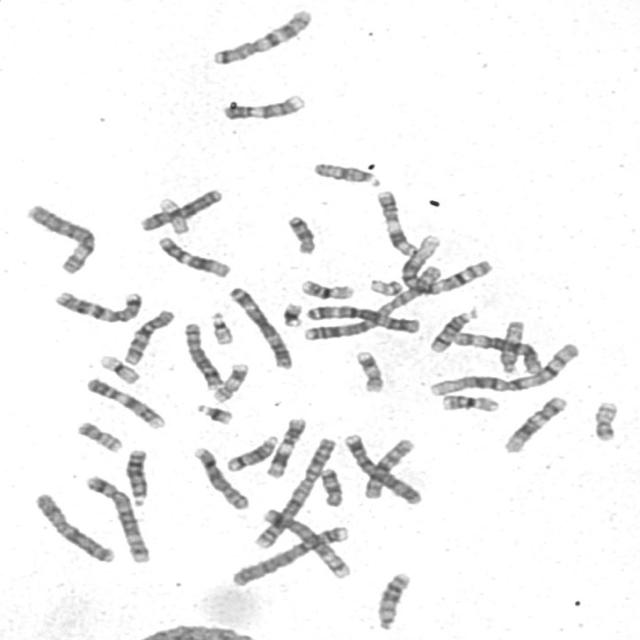A1: (423, 336, 582, 398), (397, 230, 494, 296)
A2: (299, 260, 447, 343), (250, 434, 339, 551)
A3: (224, 282, 296, 370), (299, 302, 422, 338)
B4: (226, 521, 352, 588), (338, 430, 424, 505)
B5: (257, 503, 354, 580), (81, 470, 153, 564)
C10: (359, 434, 418, 501), (120, 305, 177, 367)
C11: (372, 185, 422, 258), (261, 413, 310, 479)
C12: (500, 391, 570, 455), (153, 231, 233, 279)
C6: (22, 200, 98, 276), (451, 327, 545, 375)
C7: (208, 4, 316, 66), (50, 286, 145, 324)
C8: (189, 443, 252, 510), (179, 318, 226, 390)
C9: (82, 373, 168, 430), (218, 89, 309, 122)
D13: (373, 568, 414, 632), (122, 444, 152, 508)
D14: (425, 304, 481, 354), (222, 431, 280, 473)
D15: (309, 157, 383, 188), (496, 316, 526, 376)
E16: (295, 275, 356, 301), (437, 390, 503, 414)
E17: (208, 358, 250, 403), (352, 346, 386, 394)
E18: (282, 210, 319, 255), (316, 463, 346, 508)
F19: (95, 350, 143, 385), (156, 194, 190, 235)
F20: (71, 417, 126, 453), (589, 396, 622, 443)
G21: (192, 399, 236, 426), (278, 298, 305, 328)
G22: (206, 307, 237, 346), (365, 273, 405, 297)
X: (29, 488, 119, 564), (136, 184, 226, 233)
